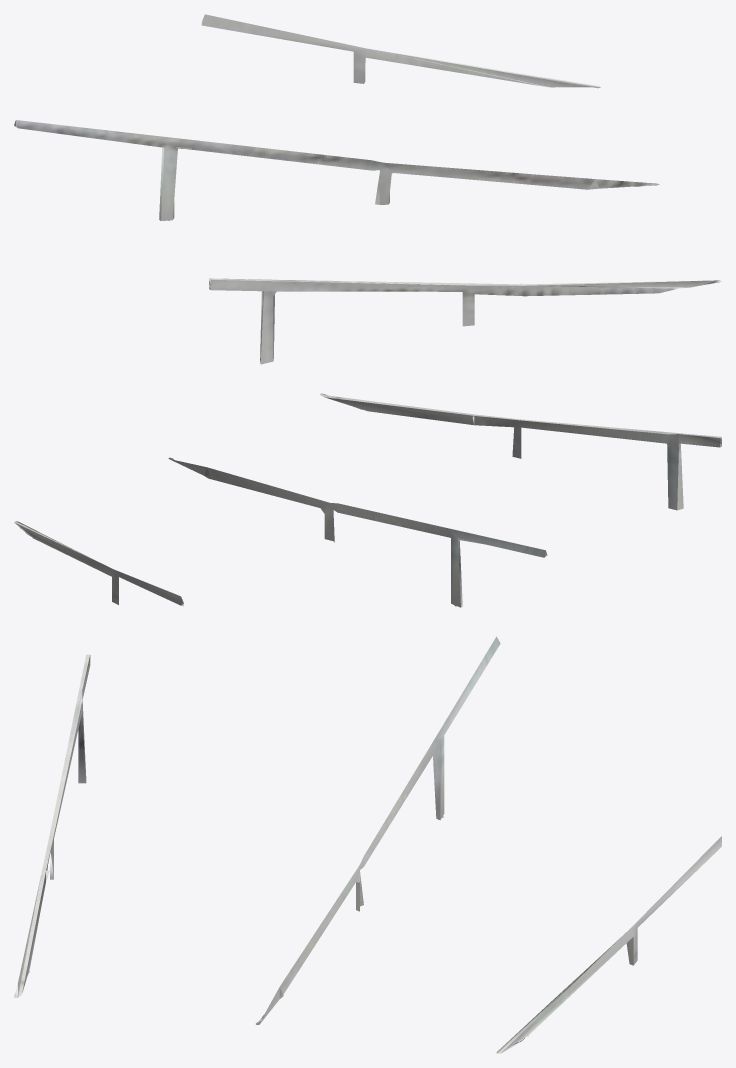
3 views of the same model, one above another, from view 1: azimuth 30°, elevation 25°; view 2: azimuth 150°, elevation 25°; view 3: azimuth 270°, elevation 25° (orthographic). The views are drawn at different scales.
Parts seen in each view (by area): view 1: 30436272704370434663_0; view 2: 30436272704370434663_0; view 3: 30436272704370434663_0.
Part boxes in pixels (x1,y1,x2,y2): 30436272704370434663_0: (14,14,721,364); 30436272704370434663_0: (14,393,721,607); 30436272704370434663_0: (14,636,721,1053).
Bounding box in the file's own units: 27.31 × 4.93 × 27.15.
Materials: 1 (1 with a texture image).
